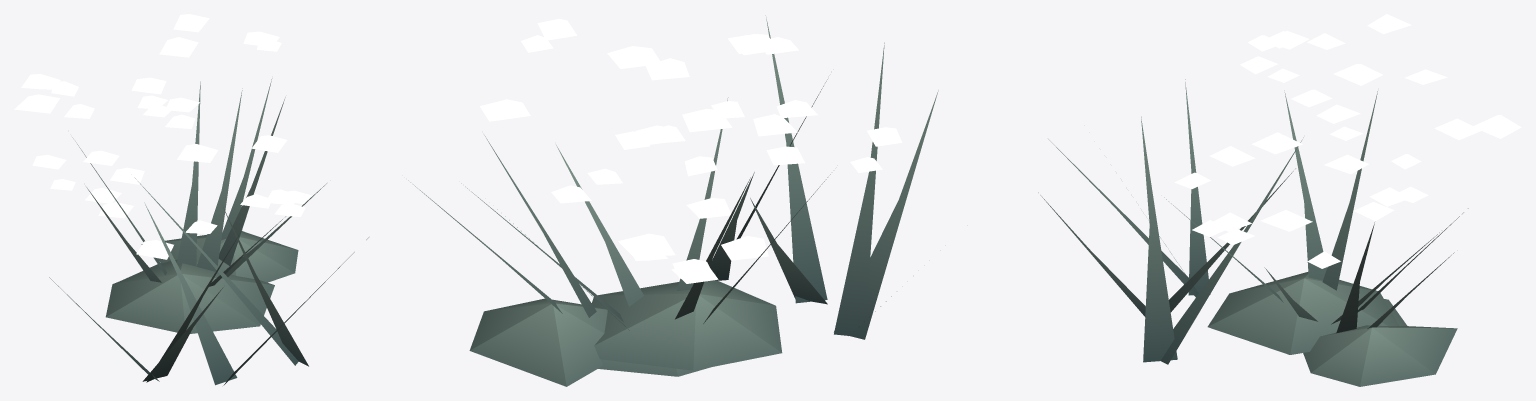
Rendered from env_flower_pale_glow_01.glb.
The picture shows the model from 3 angles, left to right: view 1: azimuth 30°, elevation 25°; view 2: azimuth 150°, elevation 25°; view 3: azimuth 270°, elevation 25°; orthographic projection. The views are drawn at different scales.
Visible parts, largest first — view 1: flower_pale_glow; view 2: flower_pale_glow; view 3: flower_pale_glow.
Boxes of the visible parts, x1,y1,x2,y2 form: flower_pale_glow: (14,14,368,385); flower_pale_glow: (408,15,938,386); flower_pale_glow: (1038,14,1521,386).
Size of the model in its own units: 0.3257 by 0.2285 by 0.3554.
